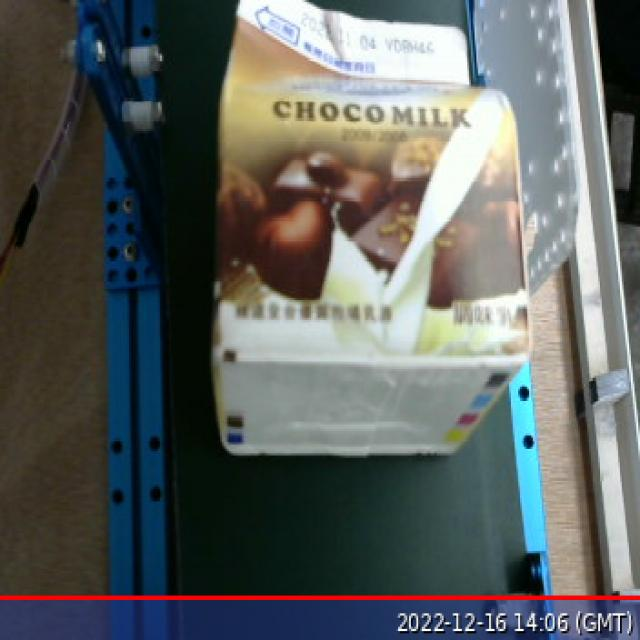non_white_jug: (195, 0, 554, 469)
